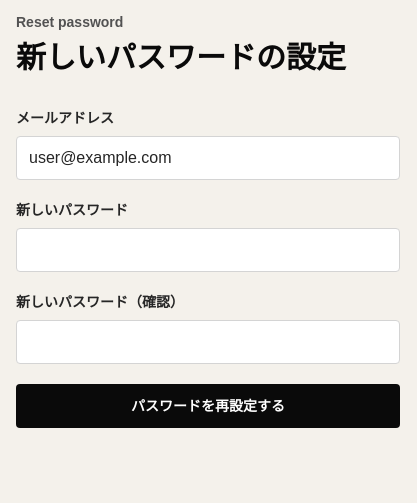
it: ResetPasswordForm › 確認用のパスワードが違えば、送らずにエラーを出す
This screenshot has width=417, height=503.
Type "password1" into the password field labelled "新しいパスワード" at (208, 250), box [16,228,400,272]
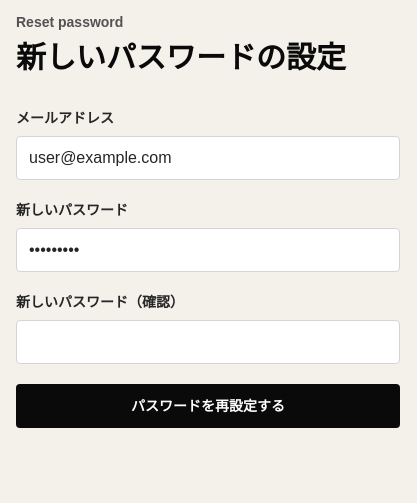
Type "password2" into the password field labelled "新しいパスワード（確認）" at (208, 342), box [16,320,400,364]
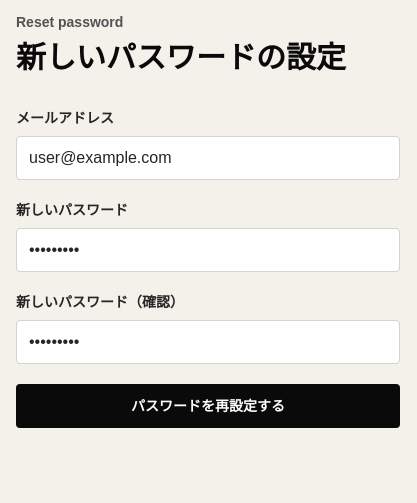
Click the button "パスワードを再設定する" at (208, 406), box [16,384,400,428]
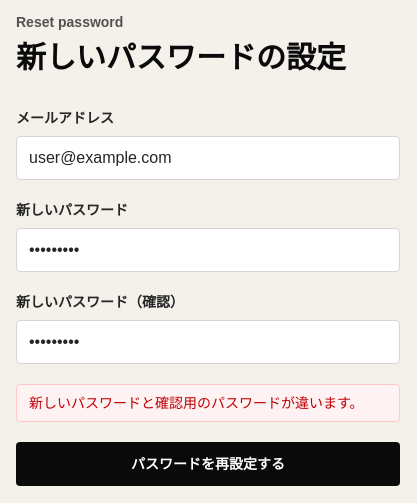
Result: the text "新しいパスワードと確認用のパスワードが違います。" is shown at [16,384,400,422]
